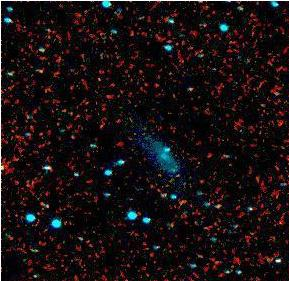star: (157, 158, 187, 188)
